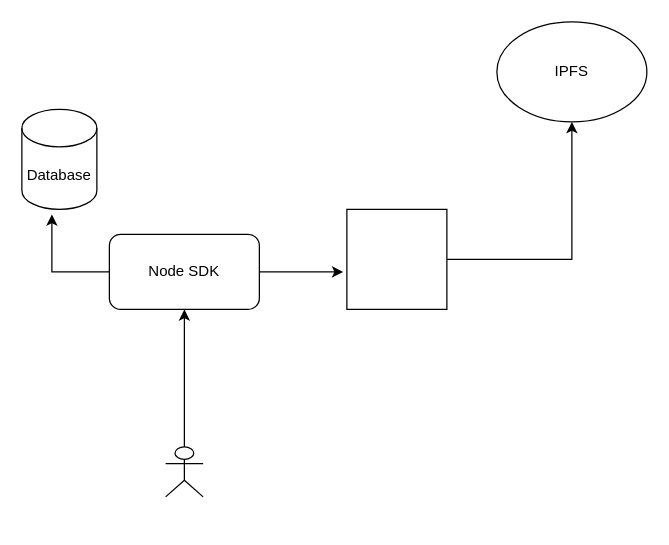
The diagram is 669 pixels wide and 545 high, and some of its shapes have lost their labels. The shapes that lost their labels are listed below. From the top down, each one's centre as x and y in pixels, then its label:
point (396, 258): Network
point (183, 471): Actor
